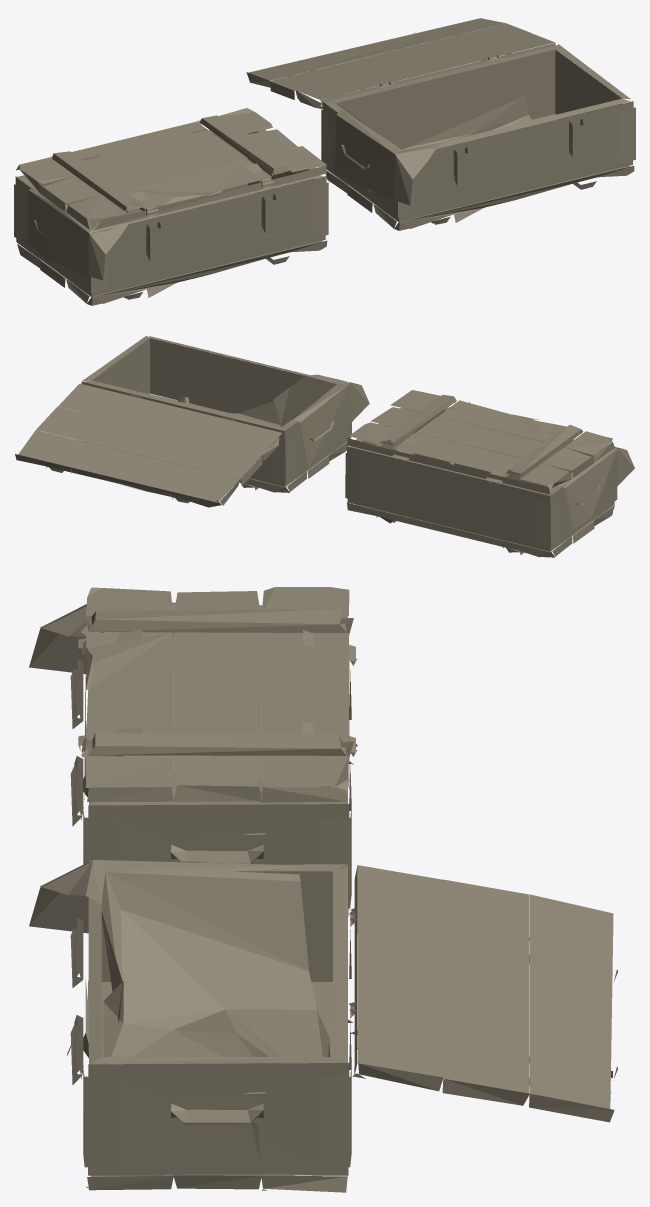
Rendered from crate_military_lod1.glb.
3 renders of one model, top to bottom at view 1: azimuth 30°, elevation 25°; view 2: azimuth 150°, elevation 25°; view 3: azimuth 270°, elevation 25°, orthographic. The views are drawn at different scales.
Parts seen in each view (by area): view 1: crate_military_lod1; view 2: crate_military_lod1; view 3: crate_military_lod1.
Boxes of the visible parts, bbox=[...] form: crate_military_lod1: bbox=[14, 18, 635, 305]; crate_military_lod1: bbox=[15, 335, 634, 557]; crate_military_lod1: bbox=[29, 587, 617, 1192].
Size of the model in its own units: 1.82 by 0.3015 by 0.9703.
